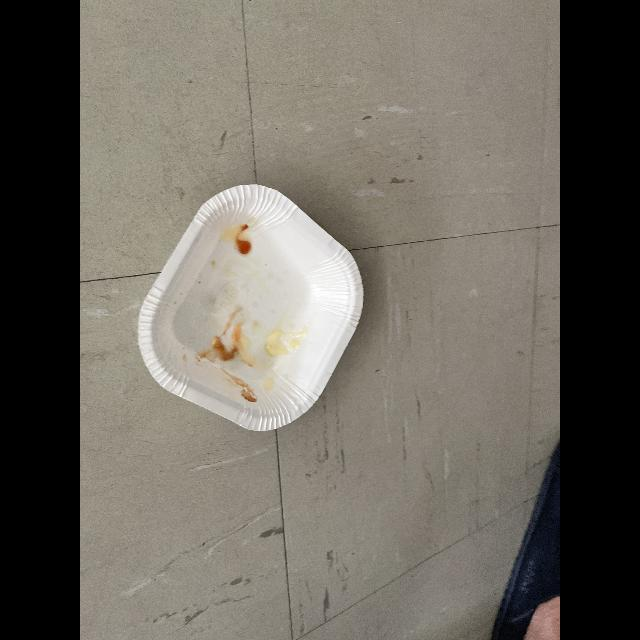cardboard_bowl: (133, 176, 367, 444)
